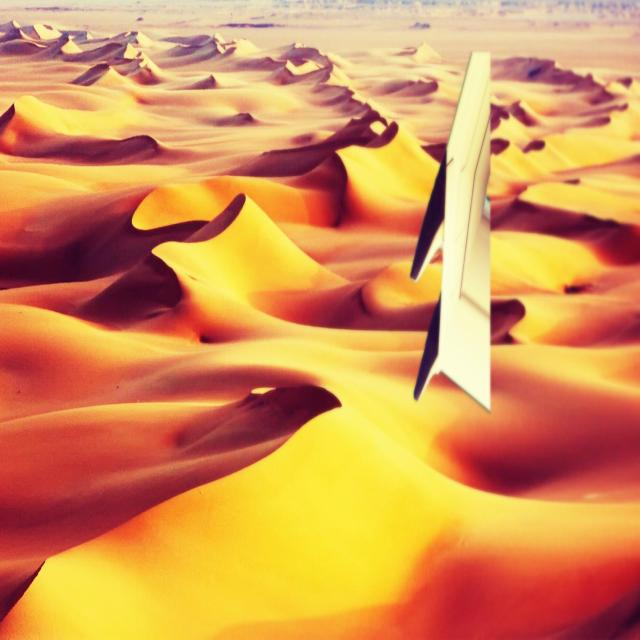airplane: (410, 50, 492, 412)
